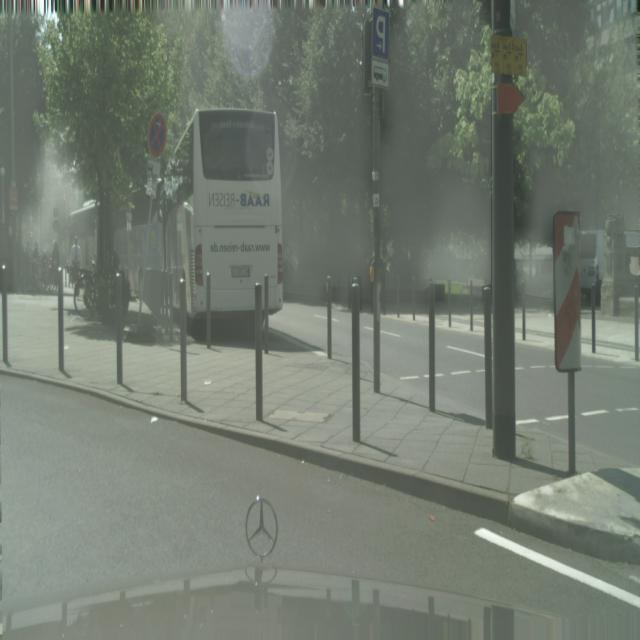car: (73, 264, 97, 312)
motorcycle: (155, 108, 283, 329), (67, 173, 150, 297)
person: (68, 234, 81, 288), (49, 238, 61, 291)
truck: (579, 220, 610, 310)
